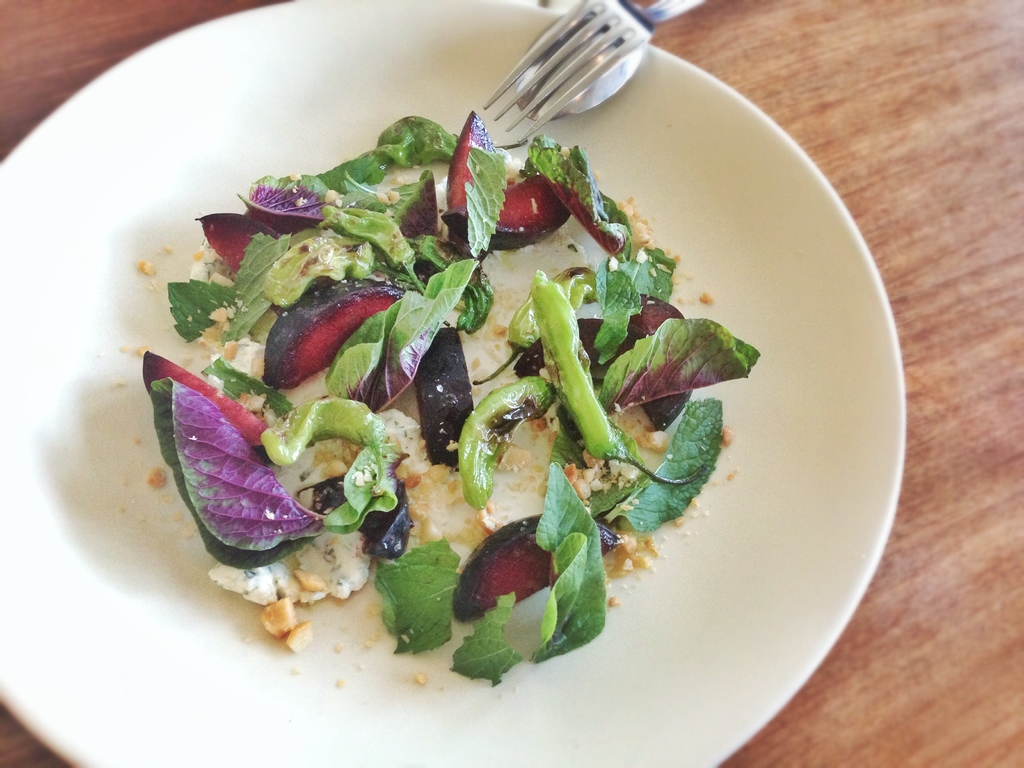salad: (116, 109, 761, 696)
